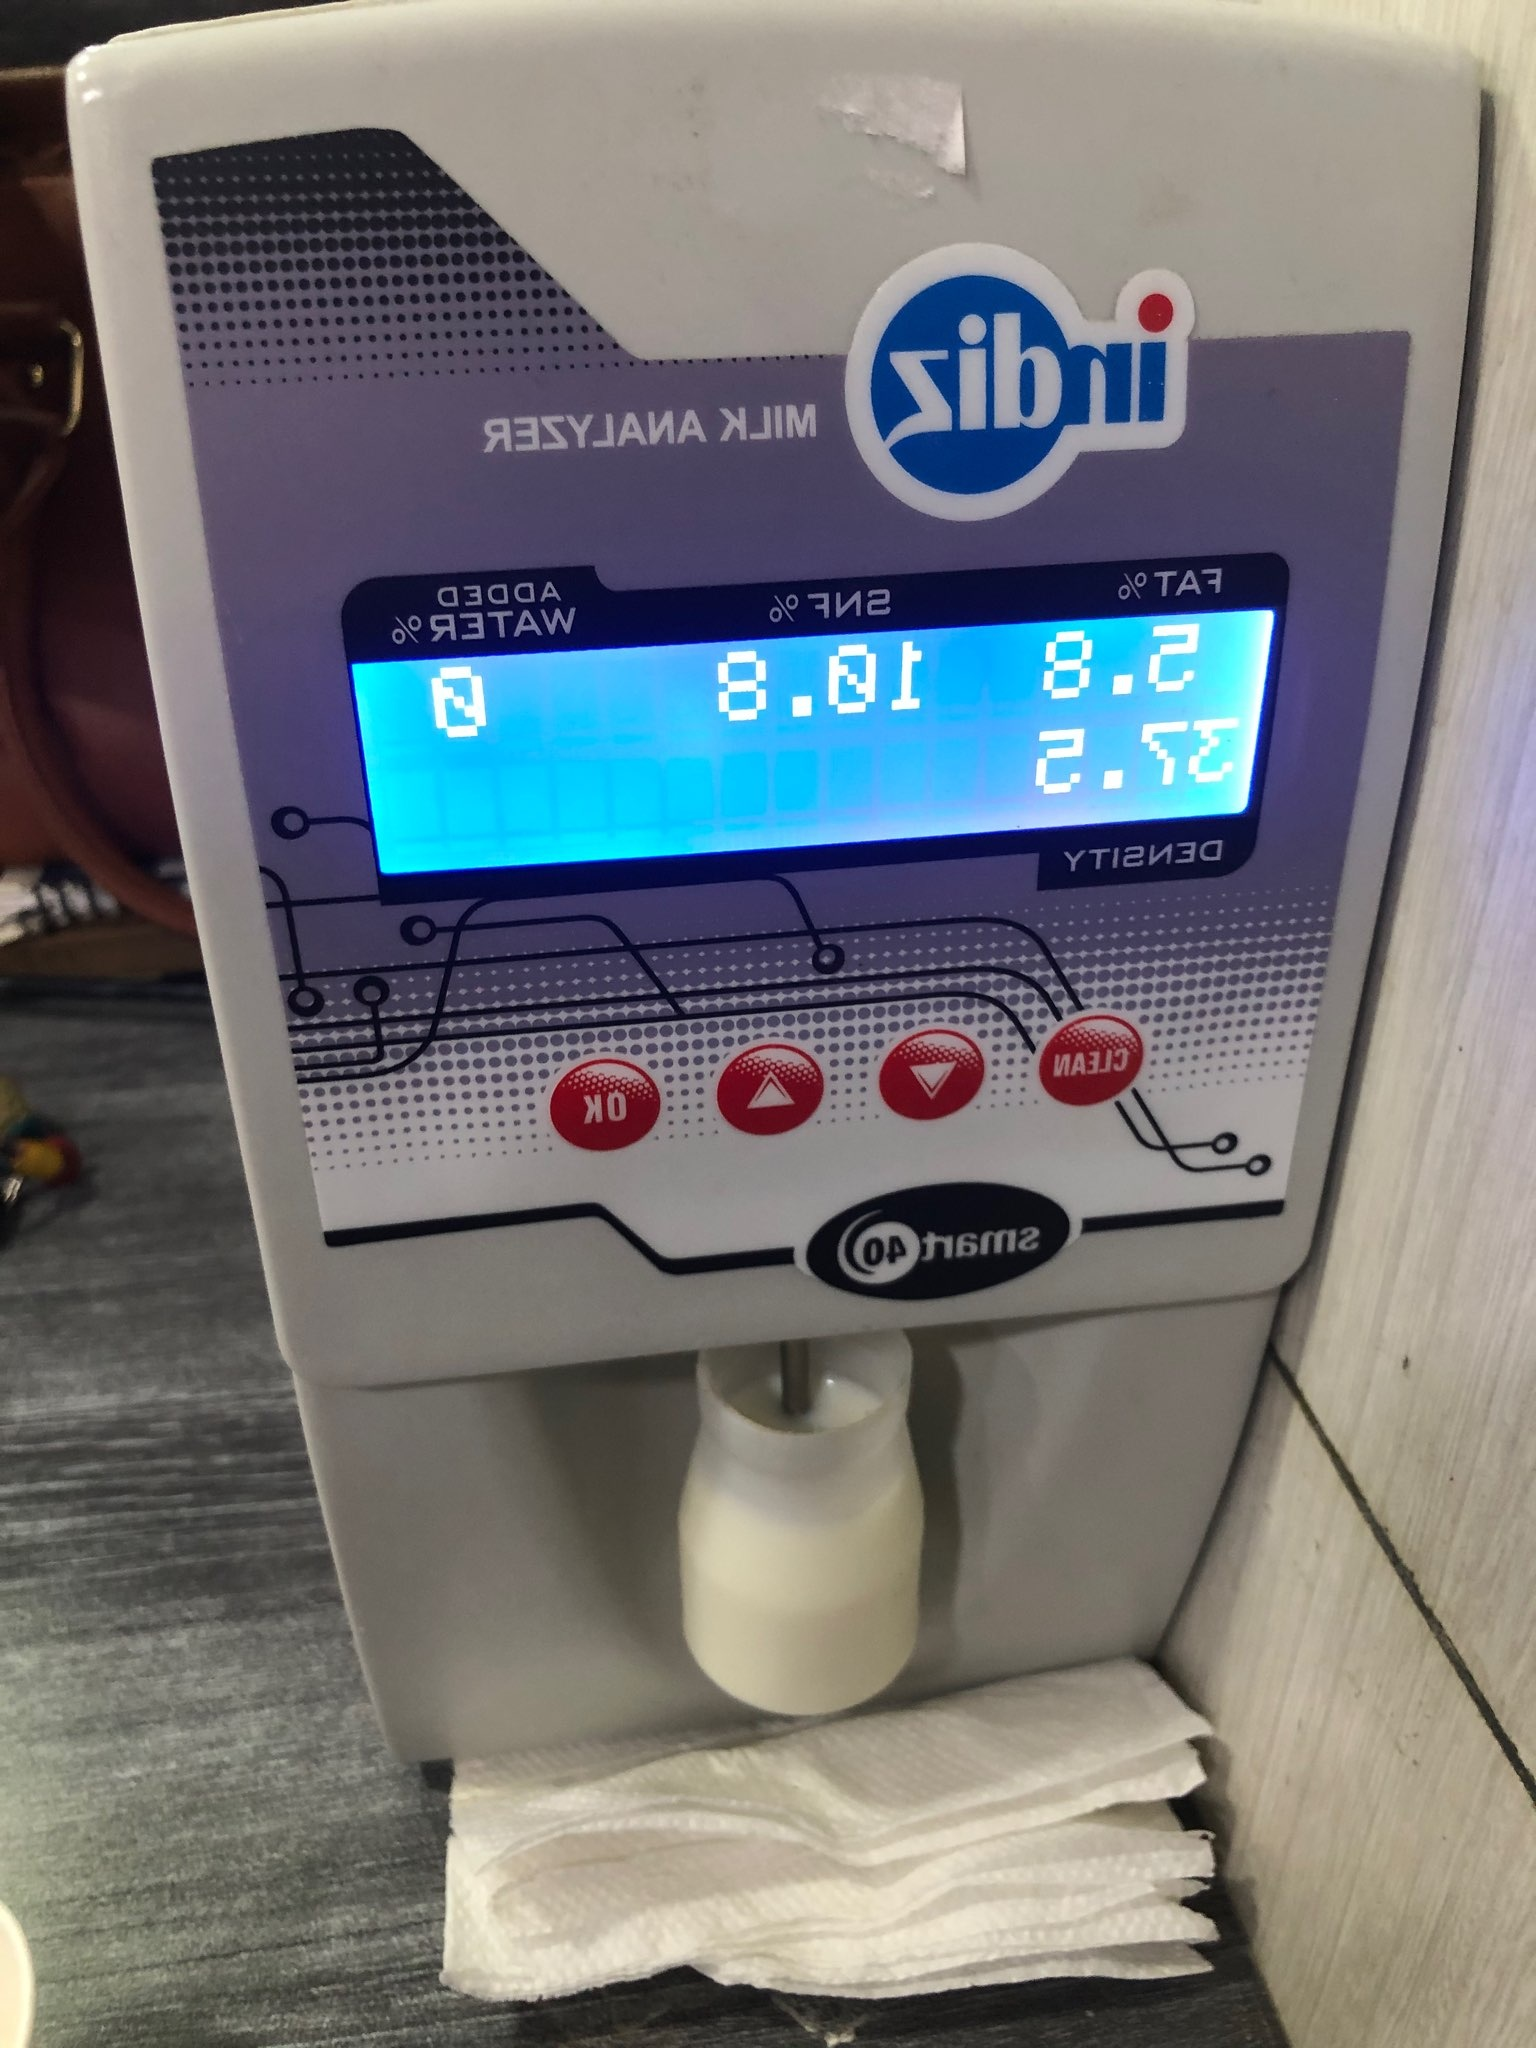lcd: (340, 572, 1291, 898)
